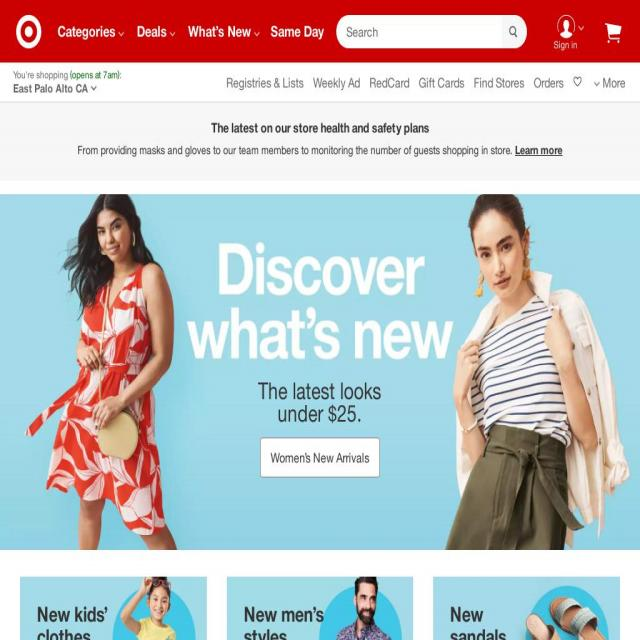button: (0, 193, 640, 550), (0, 103, 640, 182), (216, 562, 424, 640), (10, 562, 217, 640), (423, 562, 630, 640), (260, 438, 380, 476), (188, 4, 260, 58), (58, 4, 124, 58), (12, 67, 122, 96), (263, 9, 330, 55), (221, 66, 308, 98), (8, 4, 50, 58), (136, 4, 176, 58), (547, 4, 584, 58), (469, 66, 529, 98), (308, 66, 364, 98), (597, 4, 630, 58), (414, 66, 468, 98), (364, 66, 414, 98), (529, 66, 568, 98), (591, 68, 633, 95), (568, 66, 589, 98)
field: (336, 14, 527, 49)
